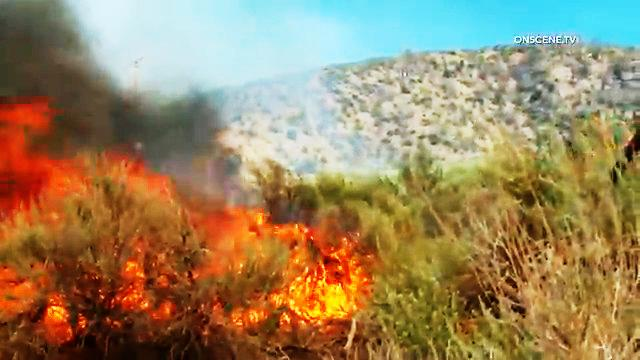fire: (279, 242, 374, 338)
smoke: (0, 0, 228, 172)
